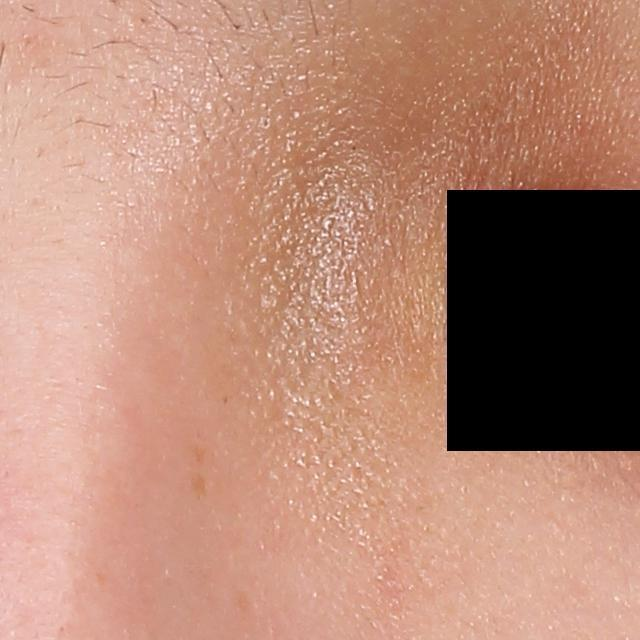melasma: (191, 470, 207, 506)
